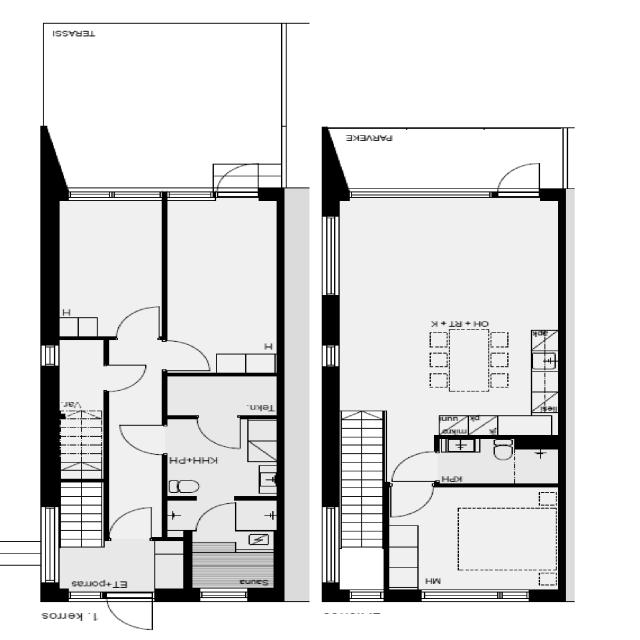door: (102, 592, 166, 628), (112, 418, 169, 458), (395, 476, 447, 518), (197, 414, 251, 454), (109, 307, 168, 341), (110, 501, 160, 541), (396, 451, 448, 484), (165, 337, 212, 373), (217, 166, 266, 198), (500, 166, 549, 198), (105, 356, 152, 389)
window: (313, 212, 347, 300), (349, 184, 504, 202), (418, 588, 534, 606), (65, 182, 169, 202), (40, 498, 63, 588), (320, 508, 344, 591), (38, 342, 66, 374), (198, 588, 258, 602), (344, 592, 389, 604), (321, 343, 337, 373)
zone: (334, 193, 565, 440), (170, 192, 286, 372), (385, 485, 569, 592), (53, 200, 170, 340), (177, 417, 276, 501), (442, 439, 564, 484)
